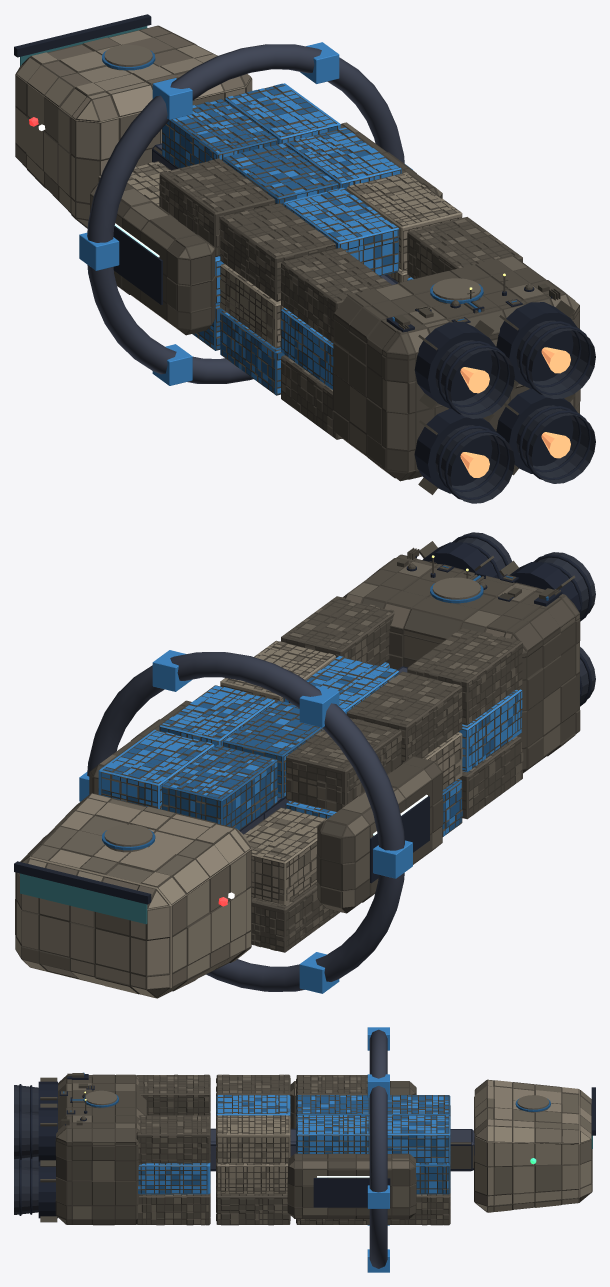
Rendered from atlas.glb.
The picture shows the model from 3 angles, top to bottom: view 1: azimuth 30°, elevation 25°; view 2: azimuth 150°, elevation 25°; view 3: azimuth 270°, elevation 25°; orthographic projection. The views are drawn at different scales.
Parts seen in each view (by area): view 1: atlas_mesh; view 2: atlas_mesh; view 3: atlas_mesh.
Part boxes in pixels (left/top/right/bottom): atlas_mesh: left=14, top=14, right=595, bottom=503; atlas_mesh: left=14, top=532, right=595, bottom=998; atlas_mesh: left=14, top=1027, right=595, bottom=1272.
Bounding box in the file's own units: 13.55 × 13.55 × 32.74.
